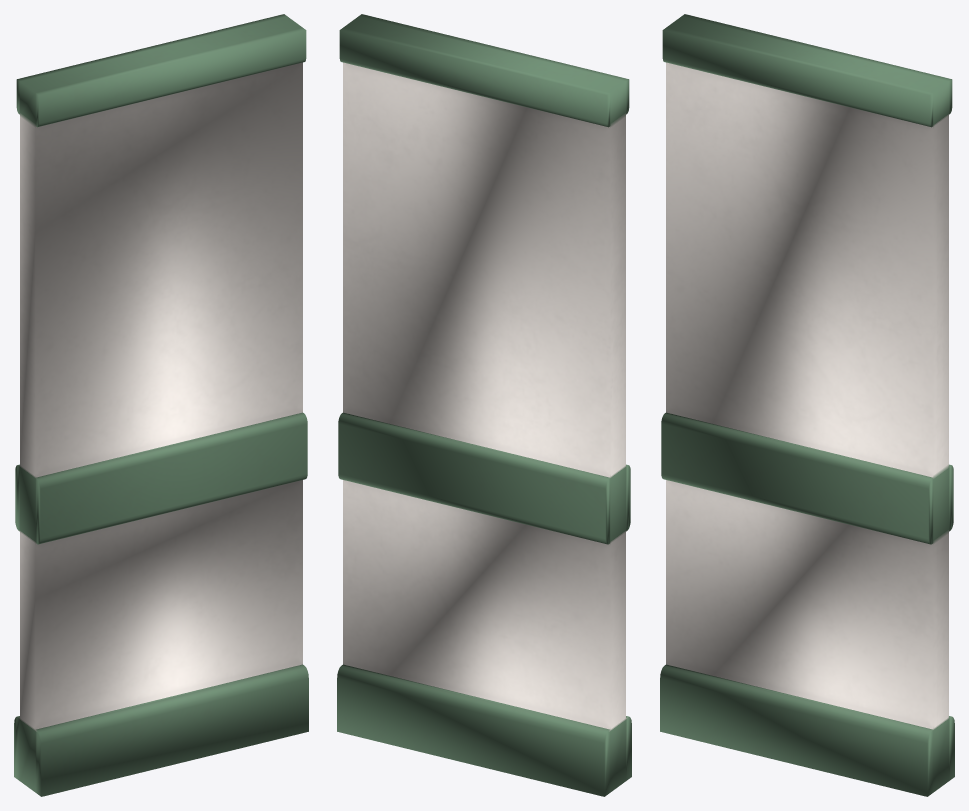
Rendered from Tile_Wall_Half.glb.
3 renders of one model, left to right at view 1: azimuth 30°, elevation 25°; view 2: azimuth 150°, elevation 25°; view 3: azimuth 330°, elevation 25°, orthographic.
Visible parts, largest first — view 1: Tile_Wall_half; view 2: Tile_Wall_half; view 3: Tile_Wall_half.
Part boxes in pixels (left/top/right/bottom): Tile_Wall_half: left=14, top=14, right=308, bottom=796; Tile_Wall_half: left=337, top=14, right=631, bottom=796; Tile_Wall_half: left=660, top=14, right=954, bottom=796.
Bounding box in the file's own units: 1 × 2.5 × 0.1769.
Materials: 1 (1 with a texture image).
